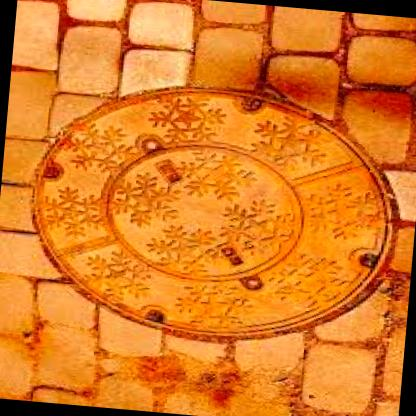manholes: (6, 34, 413, 374)
